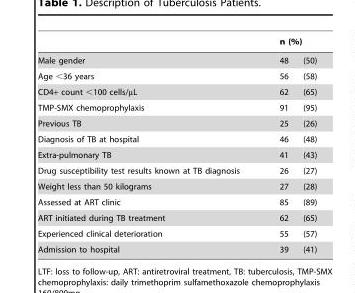table: (37, 36, 316, 253)
table column: (37, 36, 258, 253), (258, 36, 295, 253), (295, 36, 316, 253)
table column header: (37, 36, 316, 68)
table row: (37, 50, 316, 68), (37, 82, 316, 99), (37, 99, 316, 115), (37, 115, 316, 131), (37, 146, 316, 162), (37, 162, 316, 178), (37, 178, 316, 194), (37, 209, 316, 225), (37, 225, 316, 241), (37, 131, 316, 146), (37, 194, 316, 209), (37, 36, 316, 50), (37, 68, 316, 82), (37, 241, 316, 253)
table spanning cell: (37, 36, 258, 68), (258, 36, 316, 50)
